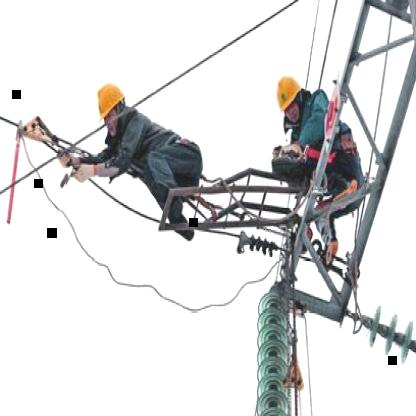helmet: (272, 67, 306, 120), (94, 76, 125, 123)
